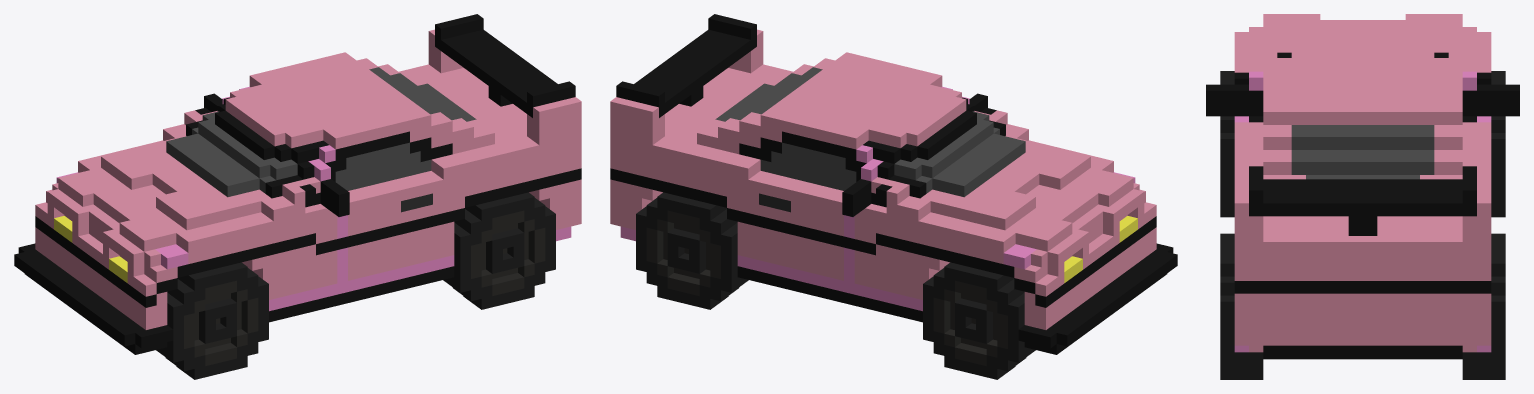
File: pinkferrari-len2.glb
The picture shows the model from 3 angles, left to right: view 1: azimuth 30°, elevation 25°; view 2: azimuth 150°, elevation 25°; view 3: azimuth 270°, elevation 25°; orthographic projection. The views are drawn at different scales.
Parts seen in each view (by area): view 1: _0; view 2: _0; view 3: _0.
Part boxes in pixels (x1=…): _0: x1=14, y1=14, x2=581, y2=379; _0: x1=610, y1=14, x2=1177, y2=379; _0: x1=1206, y1=14, x2=1519, y2=379.
Bounding box in the file's own units: 0.0645 × 0.0255 × 0.033.
